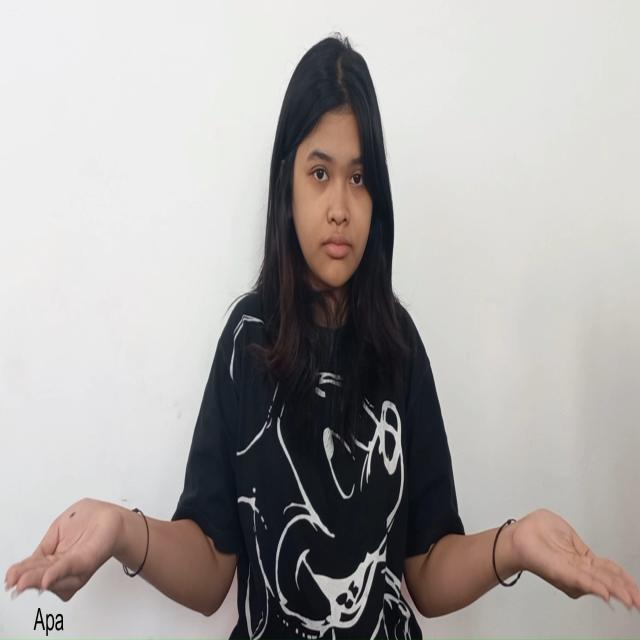Apa -BISINDO-: (1, 493, 640, 616)
